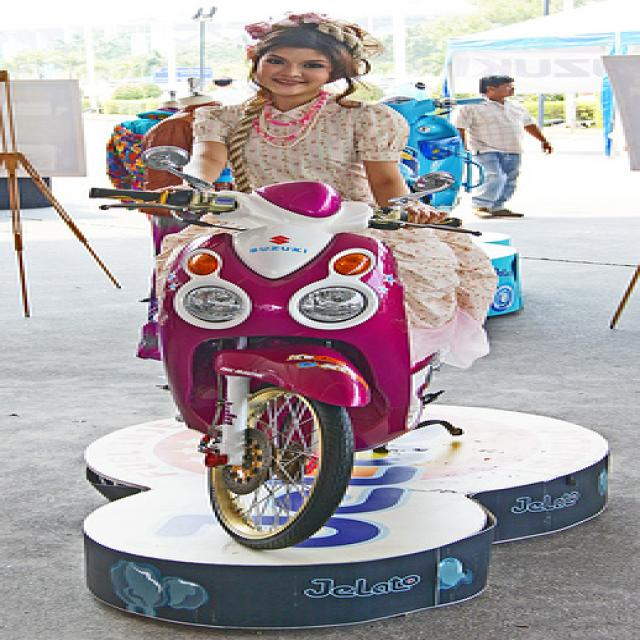motor: (94, 151, 489, 549)
